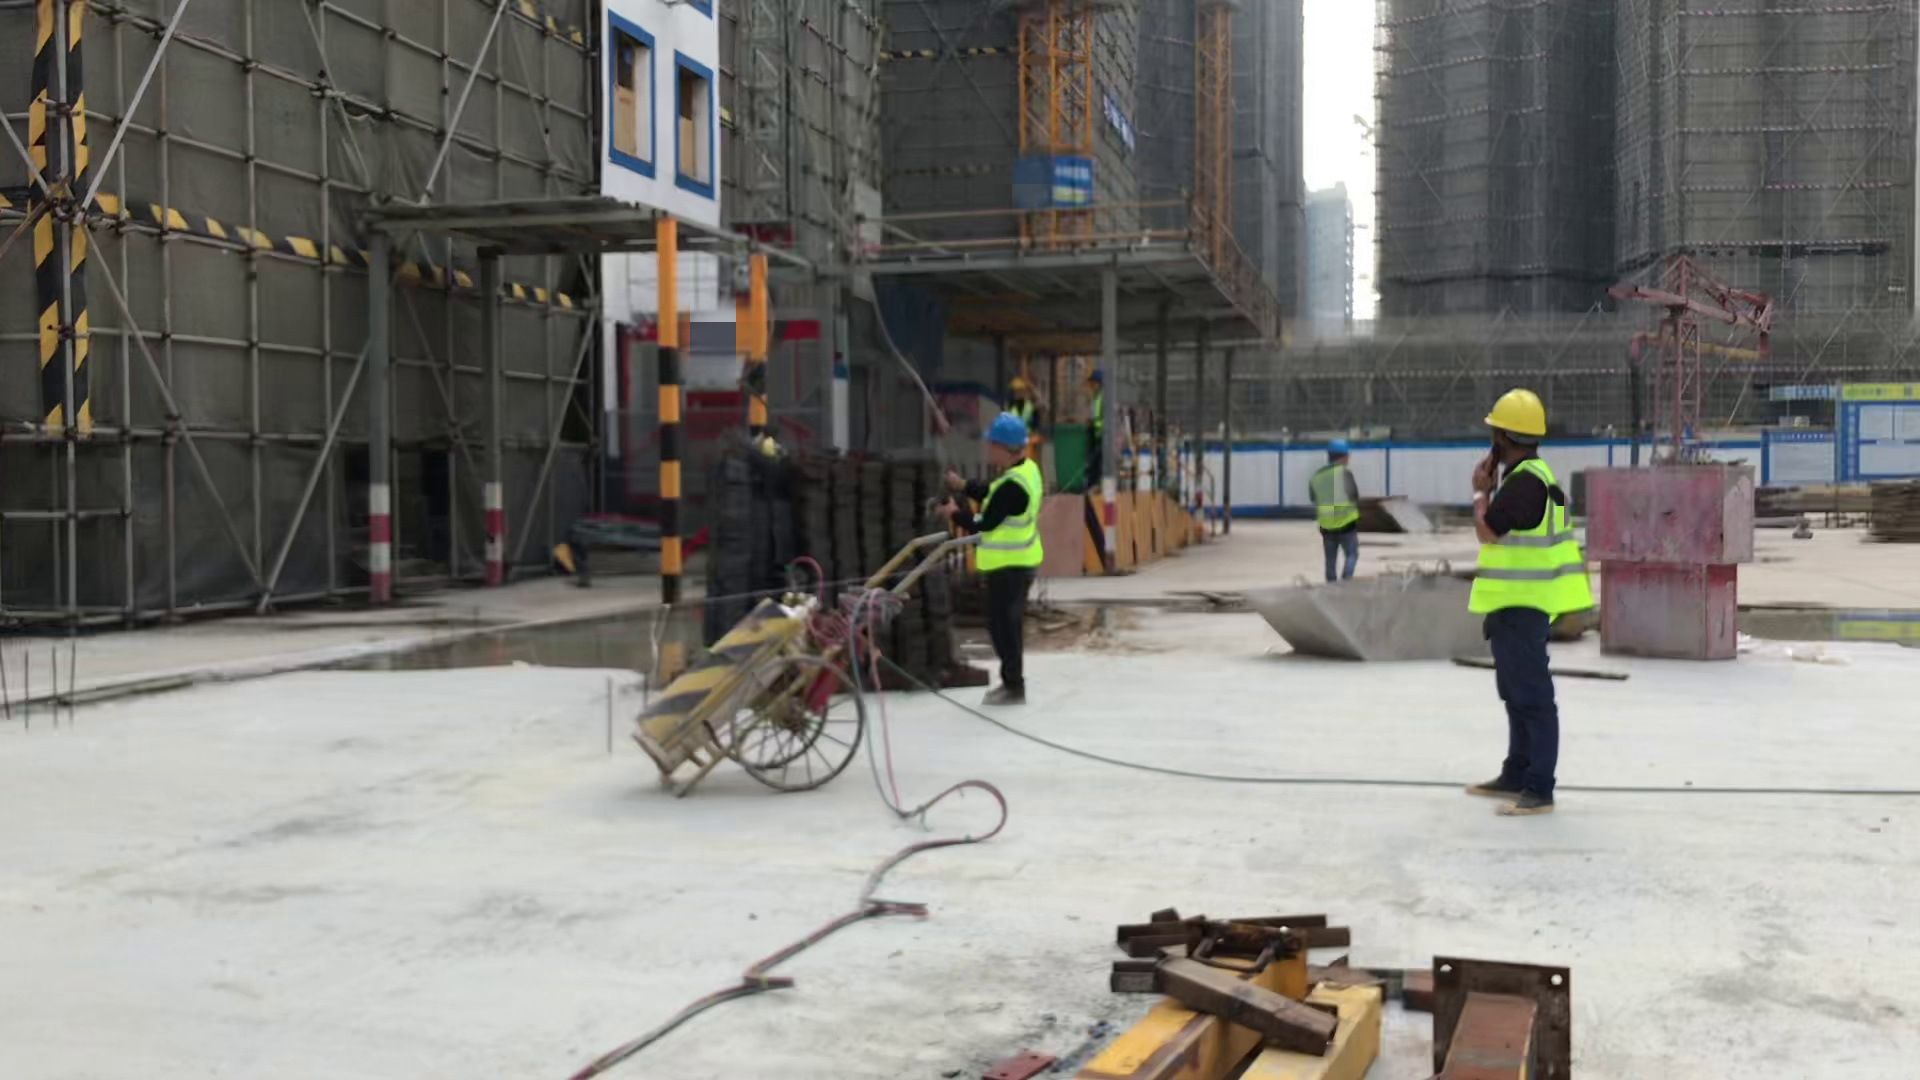board: (1851, 477, 1920, 565)
handcart: (628, 523, 965, 811)
helmet: (1478, 381, 1554, 446), (981, 412, 1033, 447), (1328, 436, 1355, 456), (1008, 371, 1032, 392), (1087, 368, 1105, 386)
hopper: (1237, 559, 1530, 661)
person: (1461, 376, 1604, 830), (970, 412, 1038, 710), (1308, 420, 1368, 574), (1075, 367, 1109, 486), (1002, 359, 1037, 422)
vest: (1471, 459, 1598, 628), (976, 458, 1043, 573), (1311, 466, 1367, 536), (1087, 389, 1108, 443), (1006, 397, 1037, 431)
